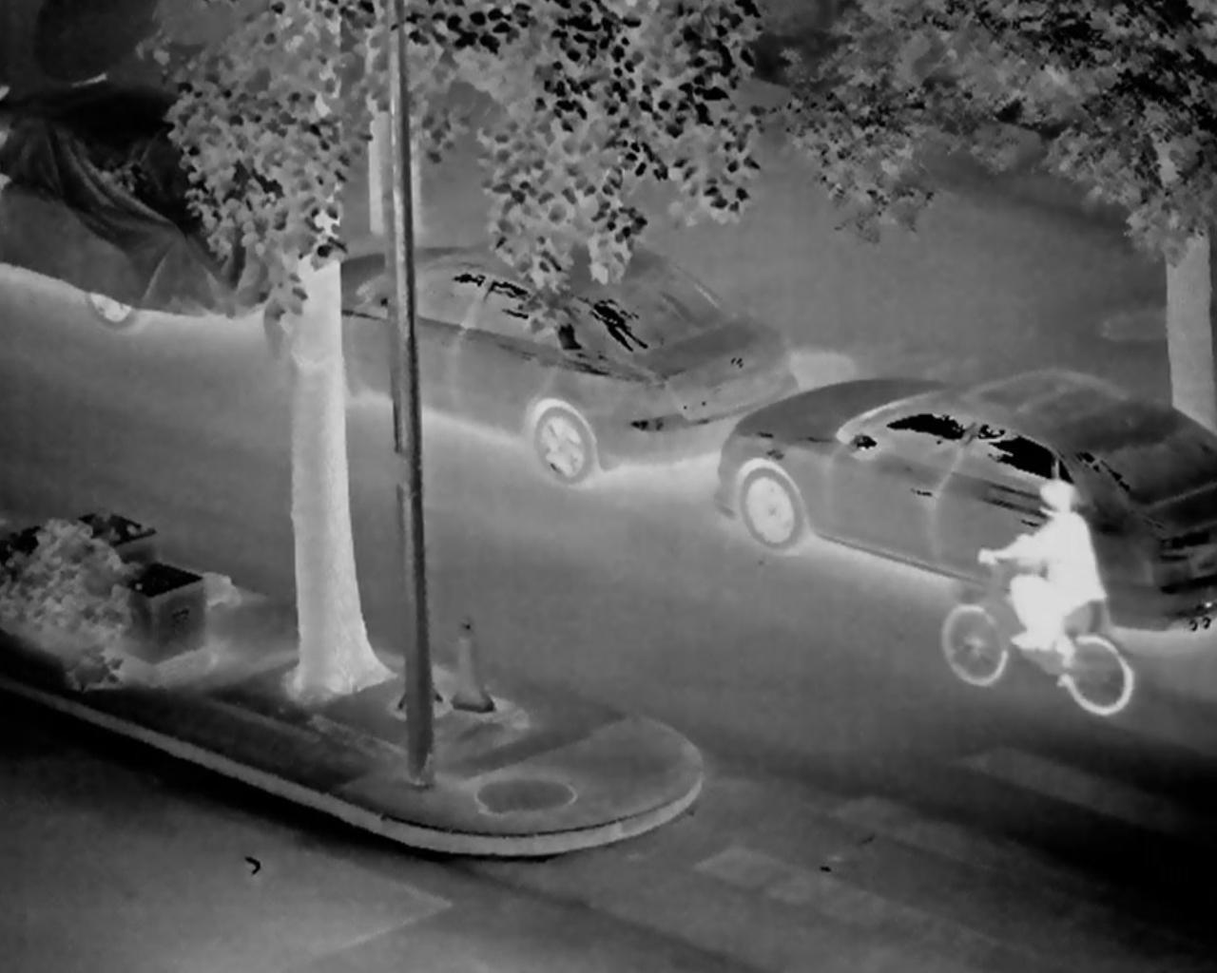person: (991, 475, 1117, 719)
